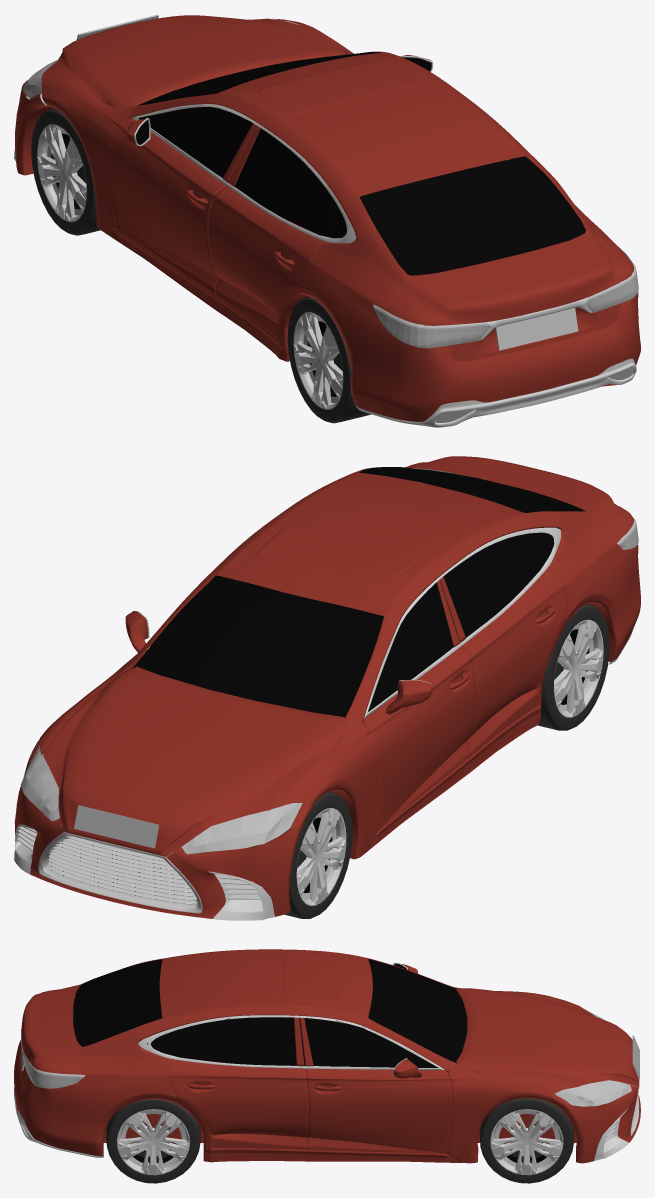
File: lexus.glb
3 renders of one model, top to bottom at view 1: azimuth 30°, elevation 25°; view 2: azimuth 150°, elevation 25°; view 3: azimuth 270°, elevation 25°, orthographic. The views are drawn at different scales.
Parts seen in each view (by area): view 1: lexus, lexus_back_left, lexus_front_left, License Plate, Light_Lamp Housings_Back_Left, Light_01_Back_Left, Light_Lamp Housings_Back_Right; view 2: lexus, lexus_back_left, lexus_front_left, Light_Lamp Housings_Front_Left, License Plate, Light_Lamp Housings_Front_Right; view 3: lexus, lexus_front_right, lexus_back_right, Light_Lamp Housings_Front_Right, Light_Lamp Housings_Back_Right.
Boxes of the visible parts, x1,y1,x2,y2 form: lexus: (14,15,640,427); lexus_back_left: (287,296,371,423); lexus_front_left: (31,108,100,235); License Plate: (76,14,578,350); Light_Lamp Housings_Back_Left: (373,304,488,348); Light_01_Back_Left: (388,317,489,345); Light_Lamp Housings_Back_Right: (587,246,638,312); lexus: (14,456,640,920); lexus_back_left: (538,603,609,730); lexus_front_left: (284,791,352,918); Light_Lamp Housings_Front_Left: (181,803,302,853); License Plate: (74,805,159,848); Light_Lamp Housings_Front_Right: (20,747,59,820); lexus: (14,949,640,1163); lexus_front_right: (480,1098,573,1183); lexus_back_right: (106,1099,200,1183); Light_Lamp Housings_Front_Right: (555,1080,631,1106); Light_Lamp Housings_Back_Right: (23,1053,85,1088).
Bounding box in the file's own units: 2.02 × 1.43 × 4.96.
